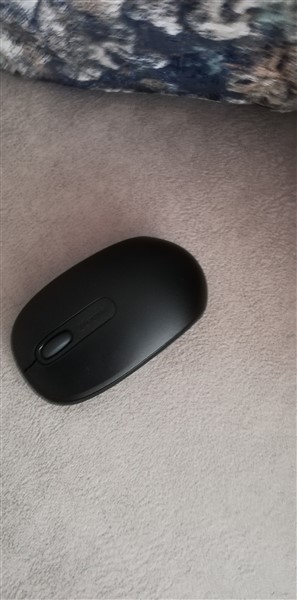mouse: (8, 232, 211, 411)
